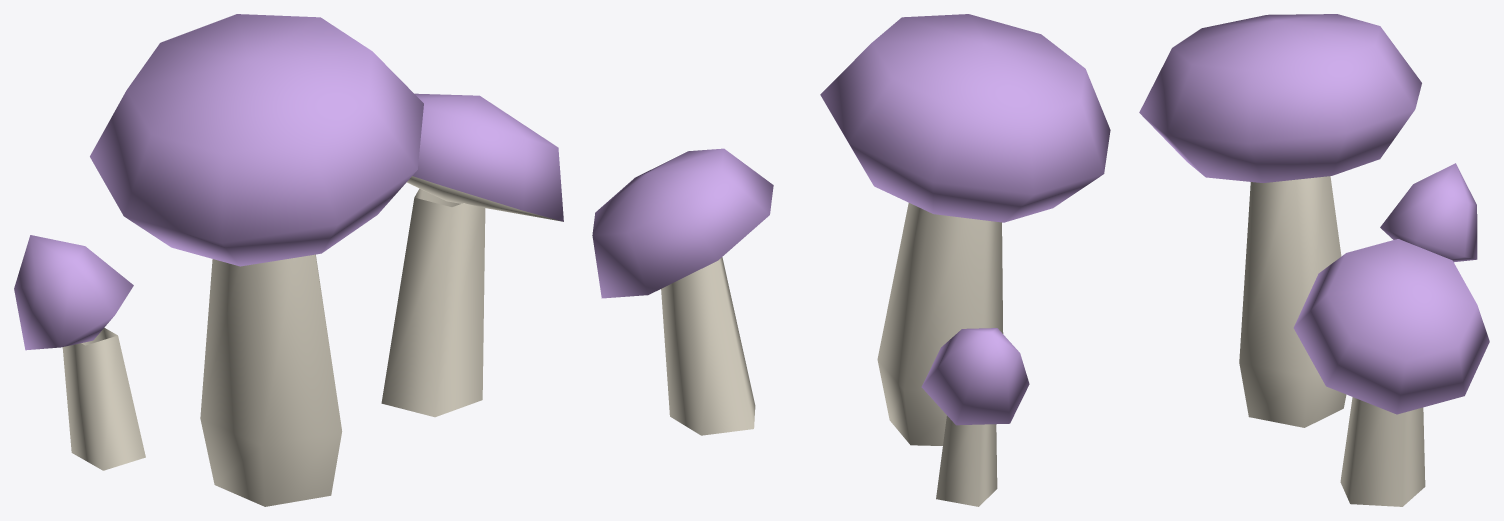
The model's file is mushroom.fbx.
3 renders of one model, left to right at view 1: azimuth 30°, elevation 25°; view 2: azimuth 150°, elevation 25°; view 3: azimuth 270°, elevation 25°, orthographic. The views are drawn at different scales.
Parts seen in each view (by area): view 1: mushroom; view 2: mushroom; view 3: mushroom.
Part boxes in pixels (bbox=[...]): mushroom: bbox=[14, 14, 563, 506]; mushroom: bbox=[592, 14, 1110, 506]; mushroom: bbox=[1139, 14, 1489, 506].
Size of the model in its own units: 0.5811 by 0.4891 by 0.4209.
